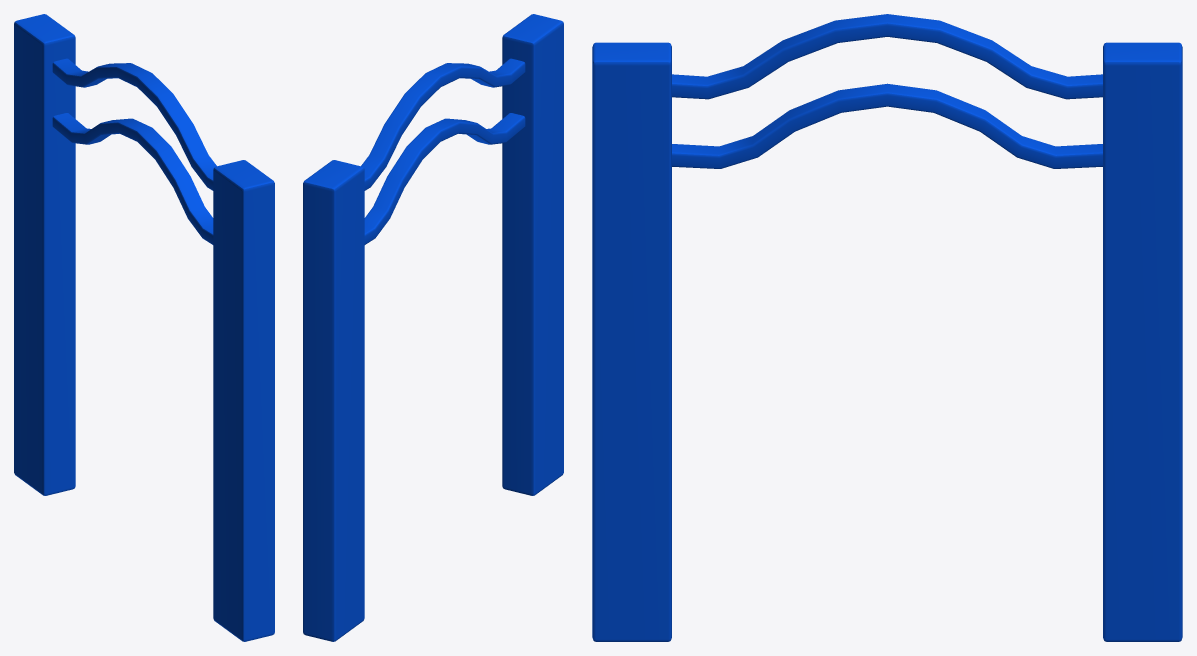
File: ParkGate.fbx
The picture shows the model from 3 angles, left to right: view 1: azimuth 30°, elevation 25°; view 2: azimuth 150°, elevation 25°; view 3: azimuth 270°, elevation 25°; orthographic projection. The views are drawn at different scales.
Visible parts, largest first — view 1: Pilar2, Pilar3, Sign; view 2: Pilar3, Pilar2, Sign; view 3: Pilar2, Pilar3, Sign.
Boxes of the visible parts, x1,y1,x2,y2 form: Pilar2: (213,160,274,641); Pilar3: (14,14,75,495); Sign: (52,58,216,244); Pilar3: (303,160,364,641); Pilar2: (502,14,563,495); Sign: (361,58,525,244); Pilar2: (592,42,671,641); Pilar3: (1103,42,1182,641); Sign: (672,14,1102,168).
Bounding box in the file's own units: 0.4608 × 6.37 × 5.53.
